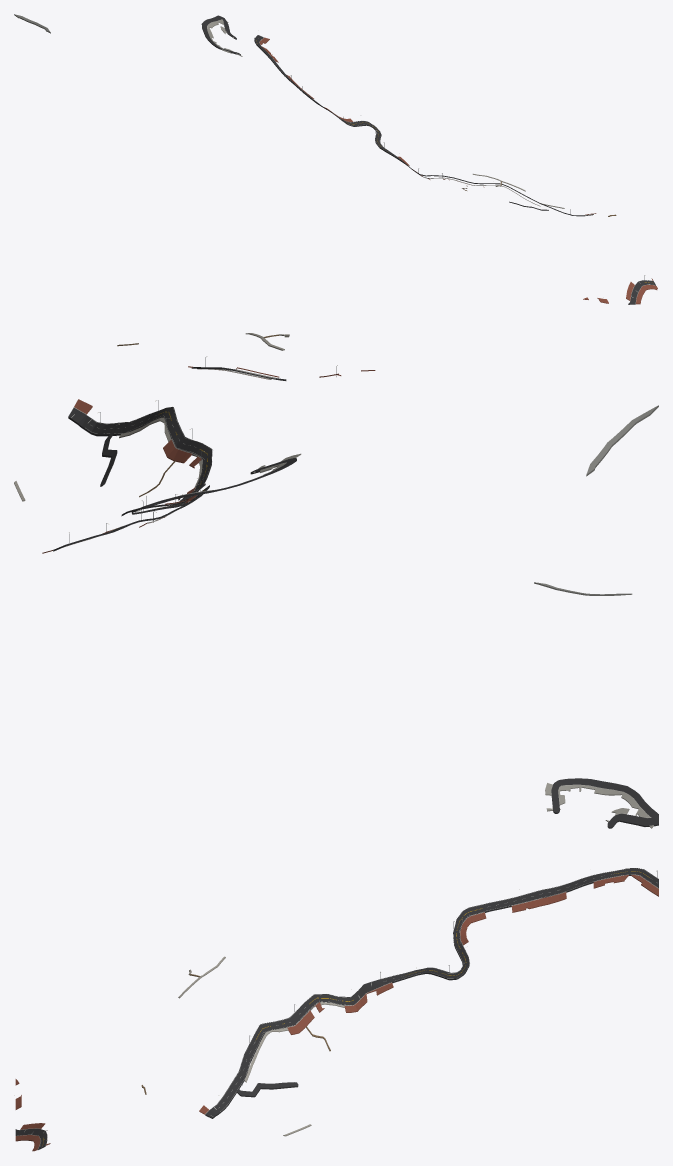
3 renders of one model, top to bottom at view 1: azimuth 30°, elevation 25°; view 2: azimuth 150°, elevation 25°; view 3: azimuth 270°, elevation 25°, orthographic. The views are drawn at different scales.
Size of the model in its own units: 590 by 302 by 585.
